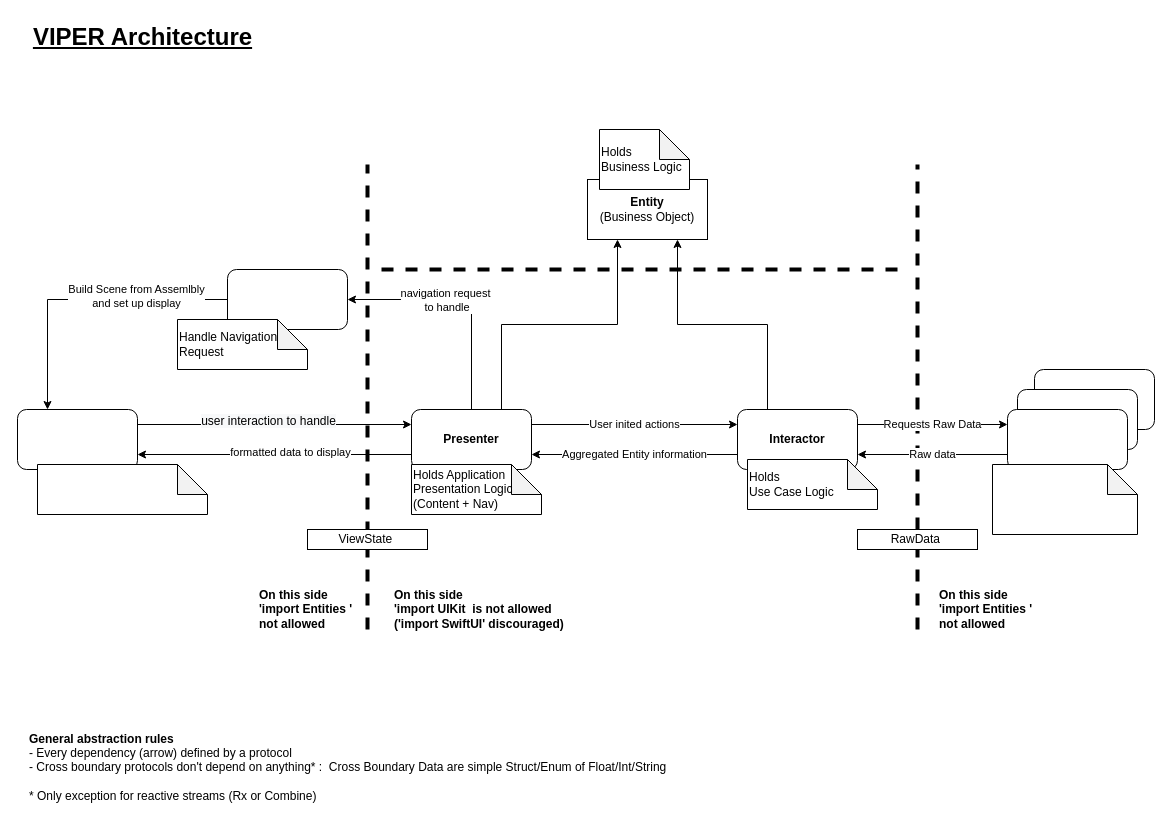
Some shapes in this 1172 by 824 pixel diagram are drawn without their labels. Here are the shapes that lost their labels. From the top down, the box of each, then its label:
(226, 268, 348, 330): Router
(16, 408, 138, 470): View
(1006, 408, 1128, 470): Worker
(36, 464, 208, 514): Display formatted data Emits user interaction events
(992, 464, 1138, 534): Retrieve datas from different sources : - WebServices - DataStore
